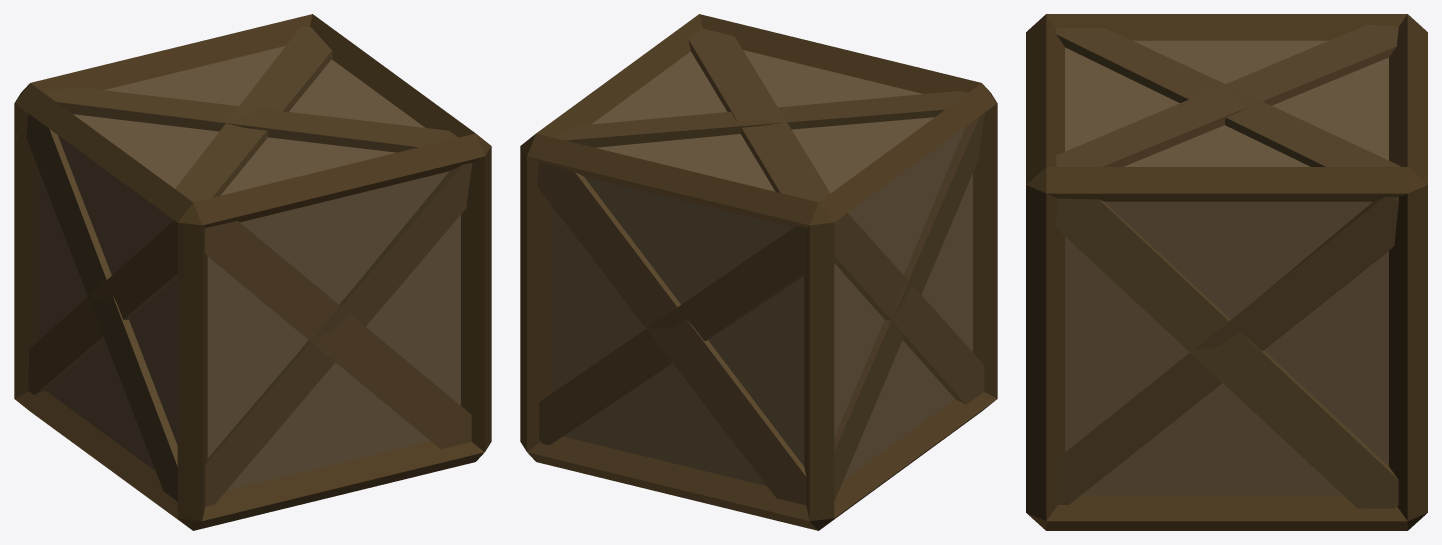
Rendered from Caja_pequena.fbx.
The picture shows the model from 3 angles, left to right: view 1: azimuth 30°, elevation 25°; view 2: azimuth 150°, elevation 25°; view 3: azimuth 270°, elevation 25°; orthographic projection. The views are drawn at different scales.
Visible parts, largest first — view 1: pCube23; view 2: pCube23; view 3: pCube23.
Boxes of the visible parts, left/top/right/bottom form: pCube23: left=14, top=14, right=491, bottom=530; pCube23: left=520, top=14, right=997, bottom=530; pCube23: left=1026, top=14, right=1427, bottom=530.
Bounding box in the file's own units: 3.81 × 3.81 × 3.81.
